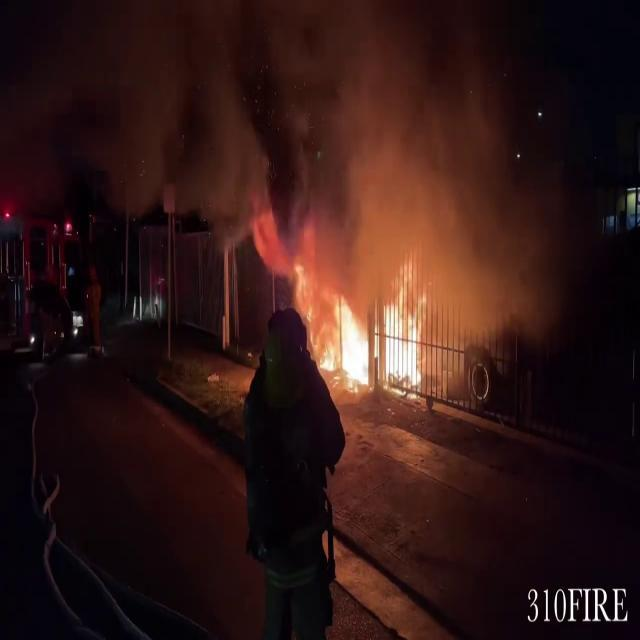Fire: (300, 258, 435, 394)
Smoke: (68, 1, 570, 317)
